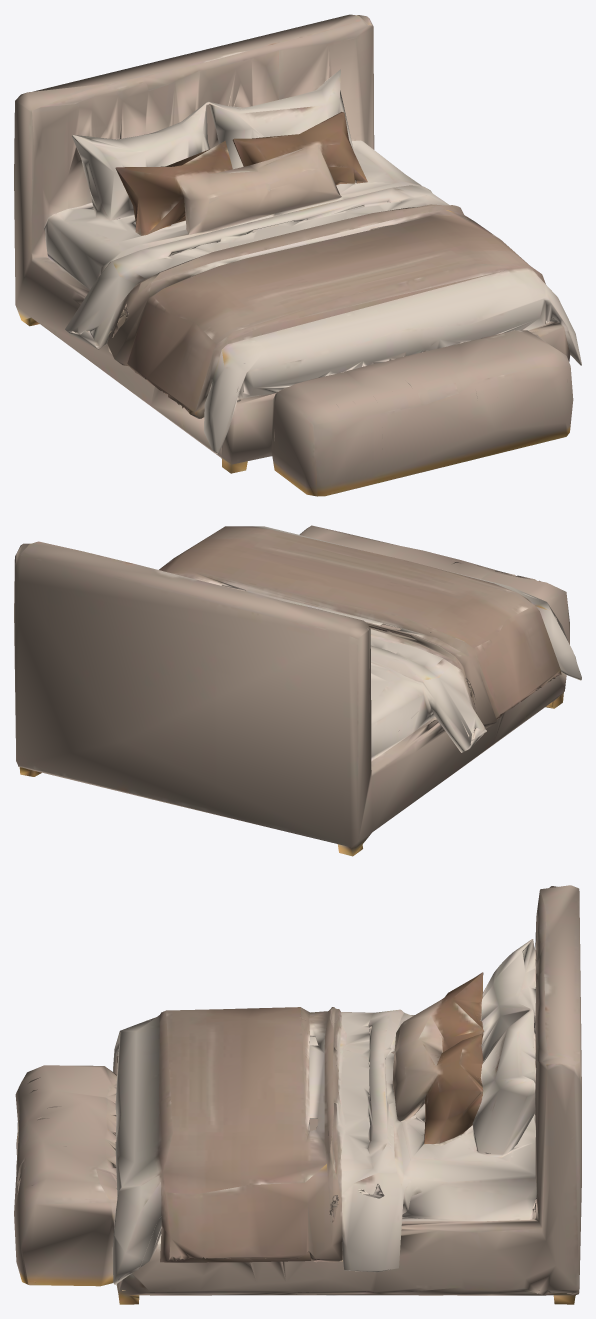
File: fm_bed_tufted.glb
3 renders of one model, top to bottom at view 1: azimuth 30°, elevation 25°; view 2: azimuth 150°, elevation 25°; view 3: azimuth 270°, elevation 25°, orthographic. The views are drawn at different scales.
Visible parts, largest first — view 1: world; view 2: world; view 3: world.
Part boxes in pixels (<box>): world: <box>14,14,581,496</box>; world: <box>14,525,581,856</box>; world: <box>14,885,581,1304</box>.
Bounding box in the file's own units: 1.88 × 1.03 × 2.15.
Materials: 1 (1 with a texture image).
